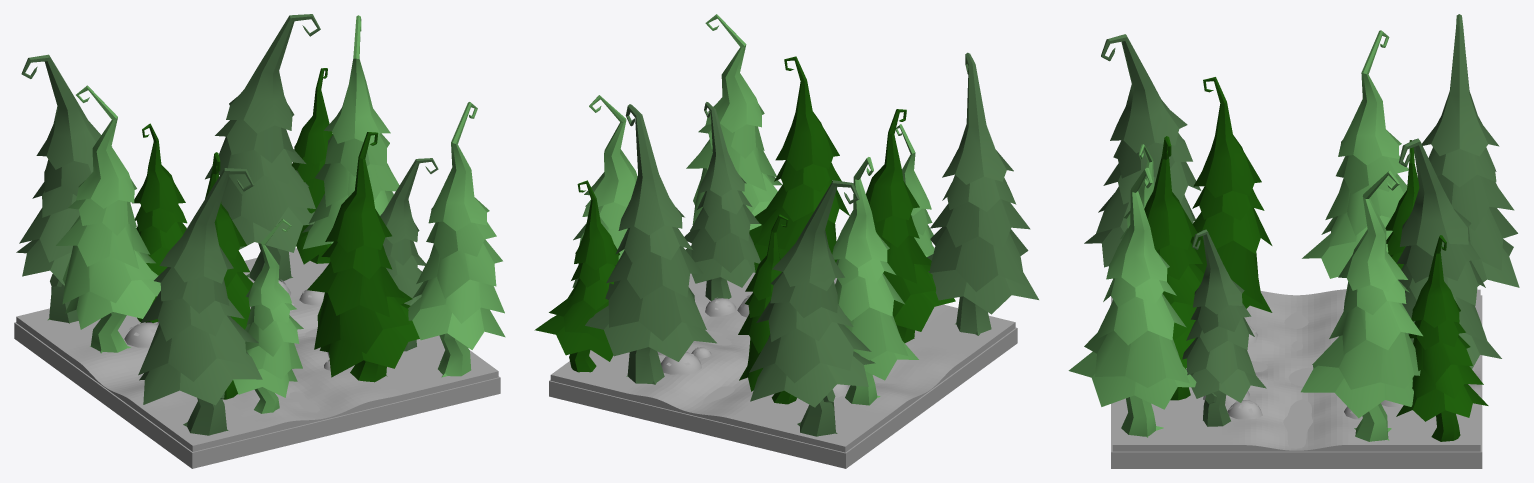
Rendered from Foret_labyrinth02_v1.fbx.
The picture shows the model from 3 angles, left to right: view 1: azimuth 30°, elevation 25°; view 2: azimuth 150°, elevation 25°; view 3: azimuth 270°, elevation 25°; orthographic projection. The views are drawn at different scales.
Parts seen in each view (by area): view 1: sol36, sapin48, sapin47, sapin44, sapin39, sapin46, sol35, sapin41, sapin43, sapin49, sapin40, sapin45 (+3 smaller); view 2: sol36, sapin44, sapin41, sapin48, sapin39, sol35, sapin47, sapin45, sapin50, sapin46, sapin42, sapin43 (+3 smaller); view 3: sol36, sapin46, sapin43, sapin41, sol35, sapin39, sapin44, sapin50, sapin48, sapin45, sapin42, sapin47 (+3 smaller).
Part boxes in pixels (<box>): sol36: <box>16,248,498,451</box>; sapin48: <box>138,168,262,435</box>; sapin47: <box>307,132,419,382</box>; sapin44: <box>205,14,320,281</box>; sapin39: <box>56,85,160,353</box>; sapin46: <box>407,102,505,377</box>; sol35: <box>14,322,500,468</box>; sapin41: <box>16,54,111,323</box>; sapin43: <box>302,15,399,249</box>; sapin49: <box>233,219,303,413</box>; sapin40: <box>132,123,187,322</box>; sapin45: <box>380,158,438,351</box>; sol36: <box>550,272,1015,452</box>; sapin44: <box>585,104,716,384</box>; sapin41: <box>749,180,875,436</box>; sapin48: <box>927,52,1038,335</box>; sapin39: <box>832,157,918,405</box>; sol35: <box>549,327,1017,468</box>; sapin47: <box>749,56,849,272</box>; sapin45: <box>684,102,760,300</box>; sapin50: <box>866,109,955,342</box>; sapin46: <box>686,14,782,230</box>; sapin42: <box>534,180,619,372</box>; sapin43: <box>572,95,637,287</box>; sol36: <box>1112,289,1480,451</box>; sapin46: <box>1068,167,1196,437</box>; sapin43: <box>1301,170,1422,441</box>; sapin41: <box>1422,14,1519,287</box>; sol35: <box>1111,295,1482,468</box>; sapin39: <box>1302,30,1408,278</box>; sapin44: <box>1397,138,1501,368</box>; sapin50: <box>1190,77,1272,312</box>; sapin48: <box>1084,34,1201,267</box>; sapin45: <box>1182,229,1266,426</box>; sapin42: <box>1396,235,1488,441</box>; sapin47: <box>1144,136,1203,400</box>.
Size of the model in its own units: 952 by 714 by 973.
